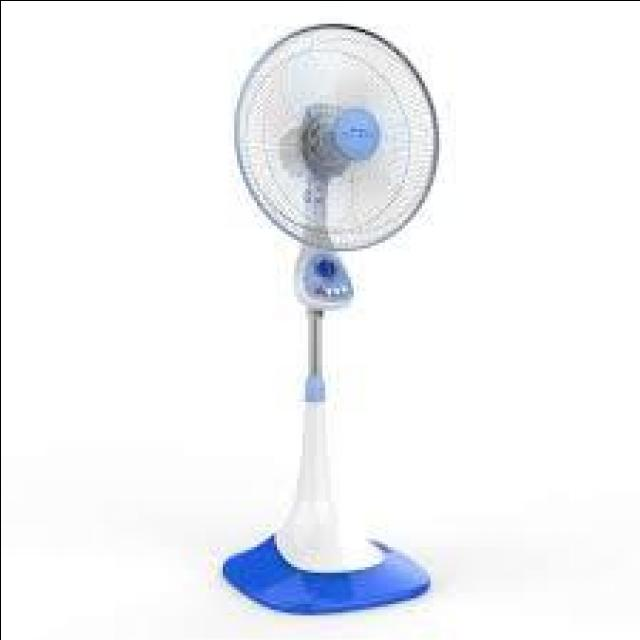fan: (200, 15, 444, 611)
